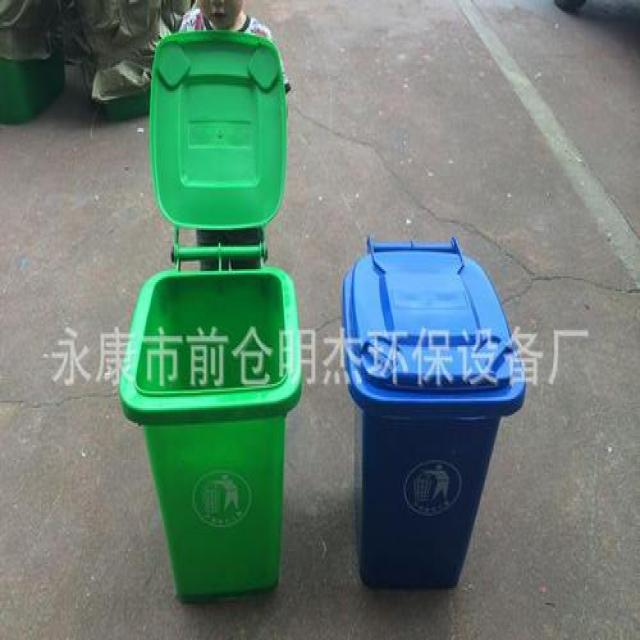garbage_bin: (340, 236, 525, 586), (118, 267, 301, 601)
